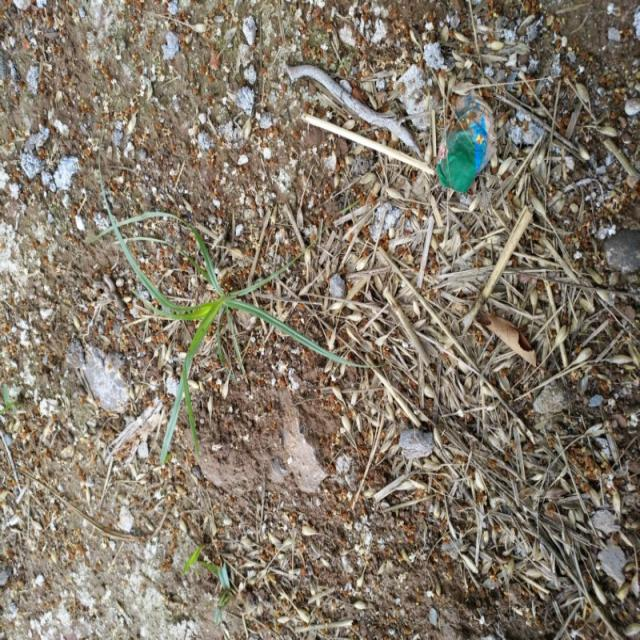sedge: (89, 176, 339, 421)
